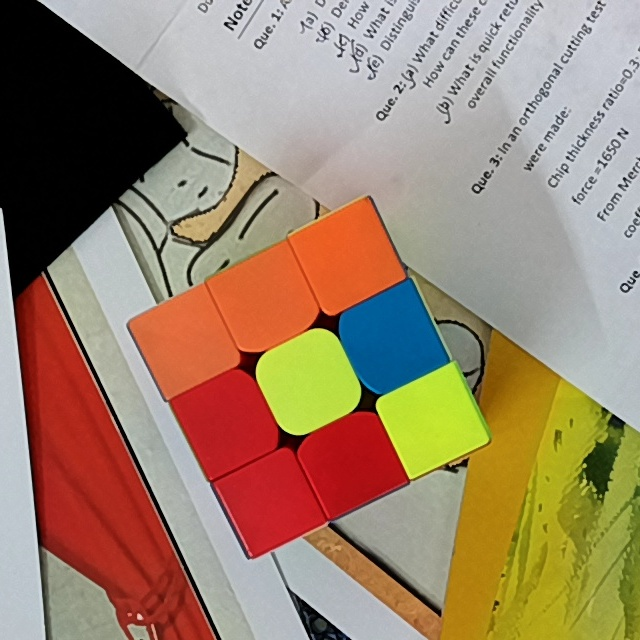tile: (315, 223, 380, 290), (194, 388, 259, 455), (232, 269, 297, 334), (277, 348, 342, 412), (361, 306, 424, 372), (319, 430, 383, 494), (151, 310, 217, 371), (403, 387, 465, 451), (241, 470, 300, 532)
